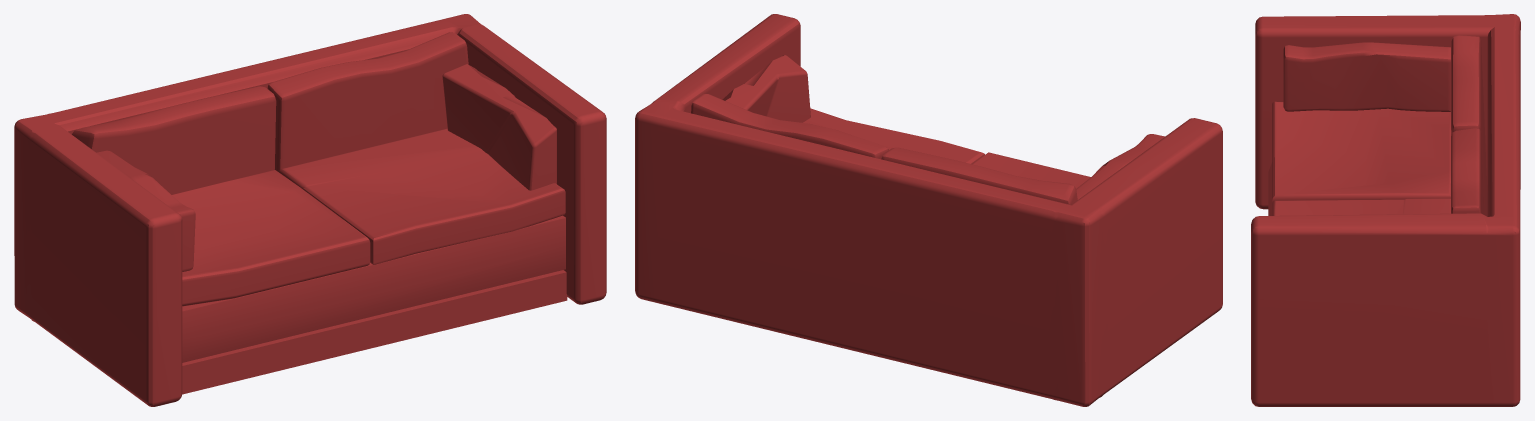
Rendered from red sofa.fbx.
The picture shows the model from 3 angles, left to right: view 1: azimuth 30°, elevation 25°; view 2: azimuth 150°, elevation 25°; view 3: azimuth 270°, elevation 25°; orthographic projection. The views are drawn at different scales.
Parts seen in each view (by area): view 1: pCube87; view 2: pCube87; view 3: pCube87.
Part boxes in pixels (x1=…): pCube87: x1=14, y1=14, x2=606, y2=406; pCube87: x1=635, y1=14, x2=1222, y2=406; pCube87: x1=1251, y1=14, x2=1520, y2=406.
Size of the model in its own units: 13.87 by 5.59 by 7.37.
